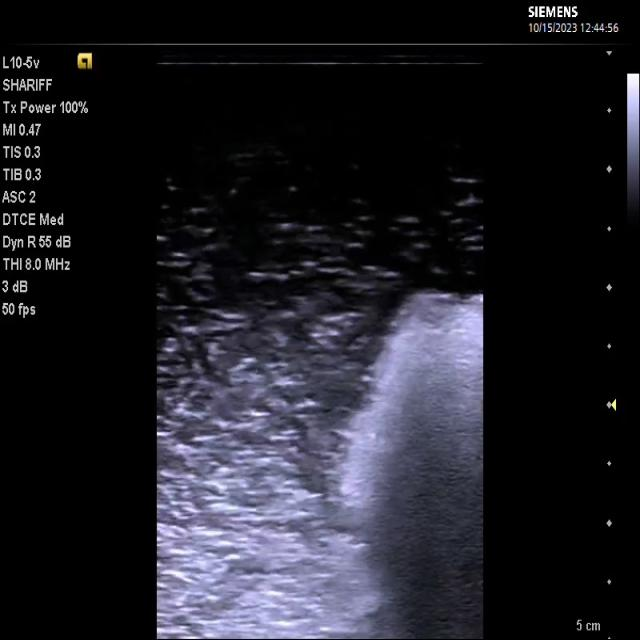tissue: (330, 293, 483, 640)
